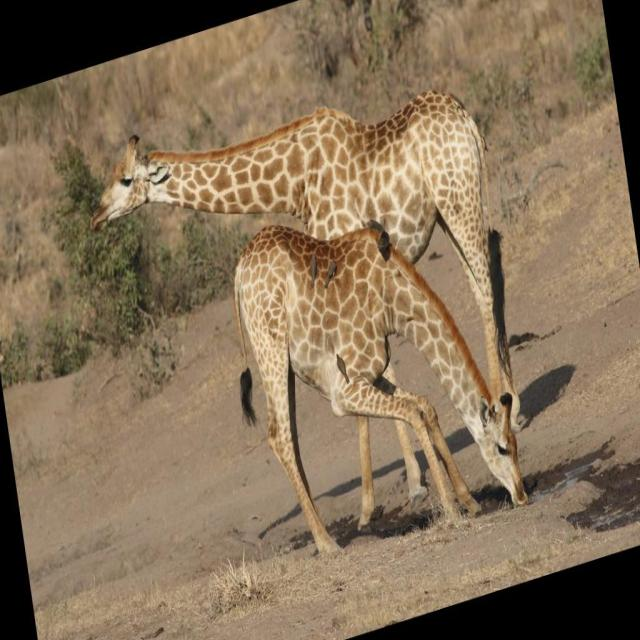Giraffe: (222, 212, 532, 570)
